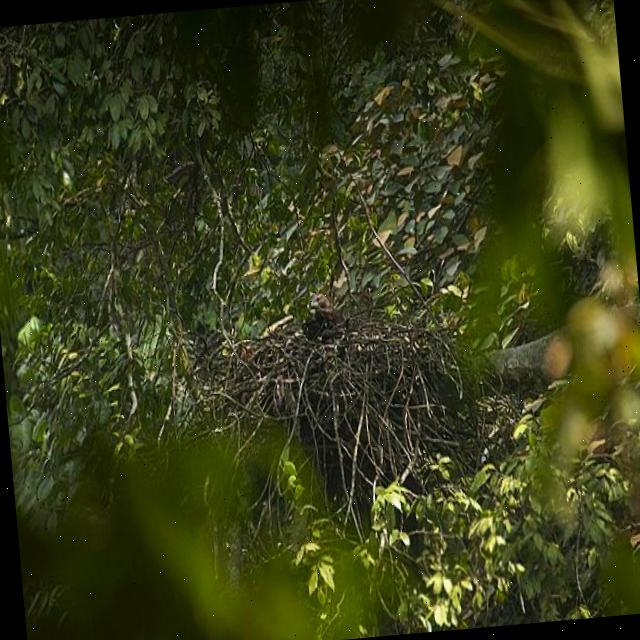Elang Jawa: (286, 264, 366, 362)
